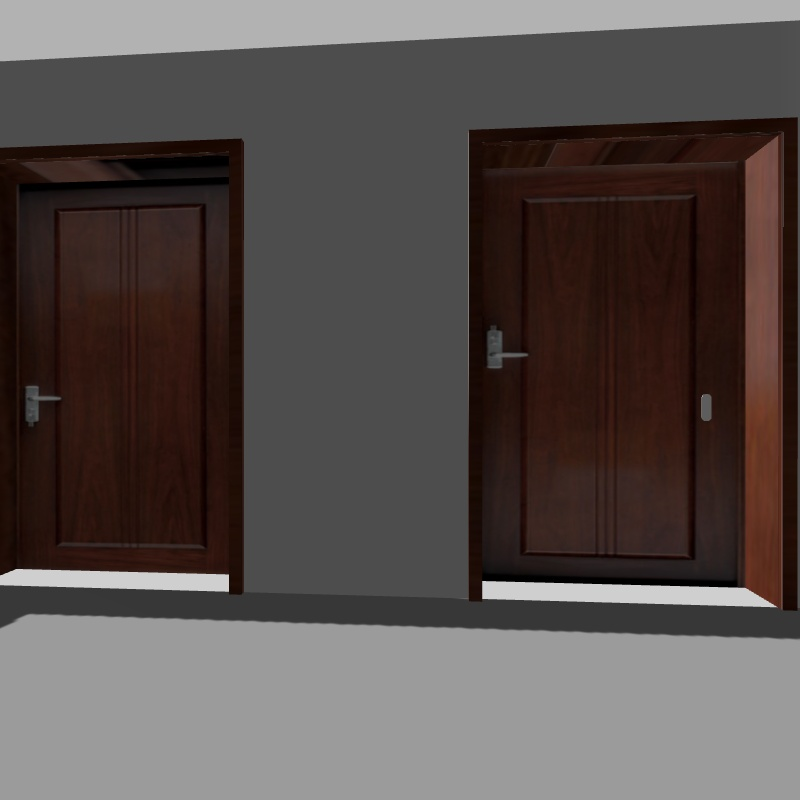handle: (8, 380, 69, 425), (477, 327, 530, 374)
